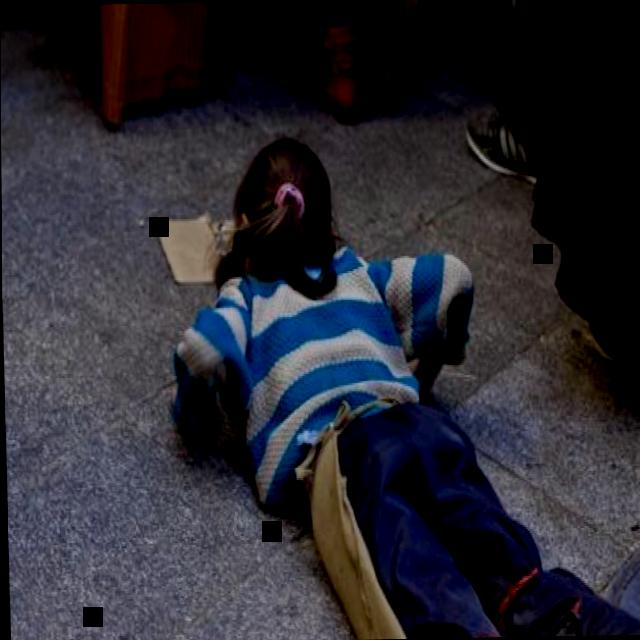Fall-Detected: (149, 117, 636, 640)
